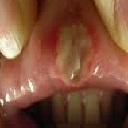Cold Sore: (55, 27, 100, 82)
